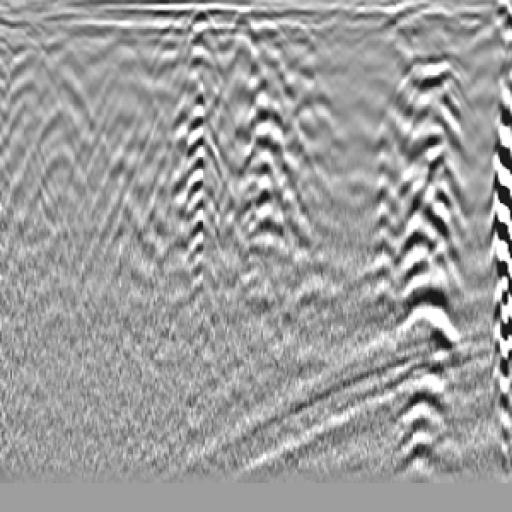metalic: (277, 58, 343, 278)
